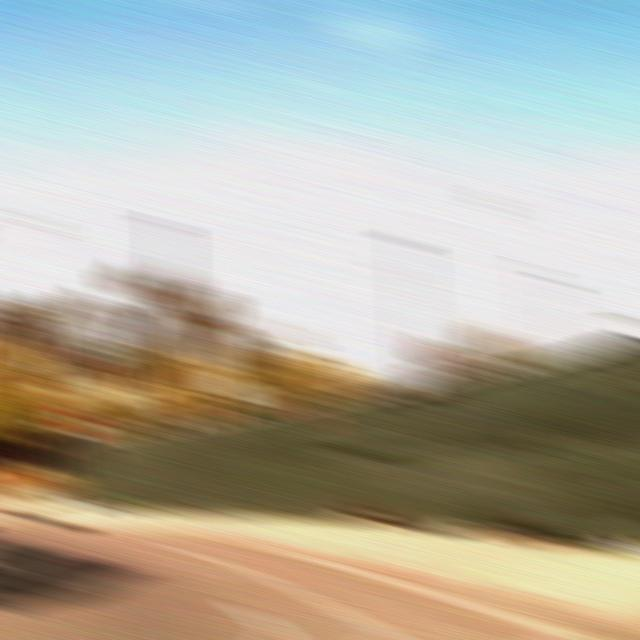stop_sign: (59, 406, 97, 437)
